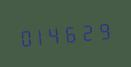four: (50, 21, 65, 46)
nine: (98, 17, 113, 42)
one: (33, 22, 48, 48)
six: (66, 20, 81, 45)
two: (82, 18, 97, 44)
zero: (17, 24, 32, 49)
